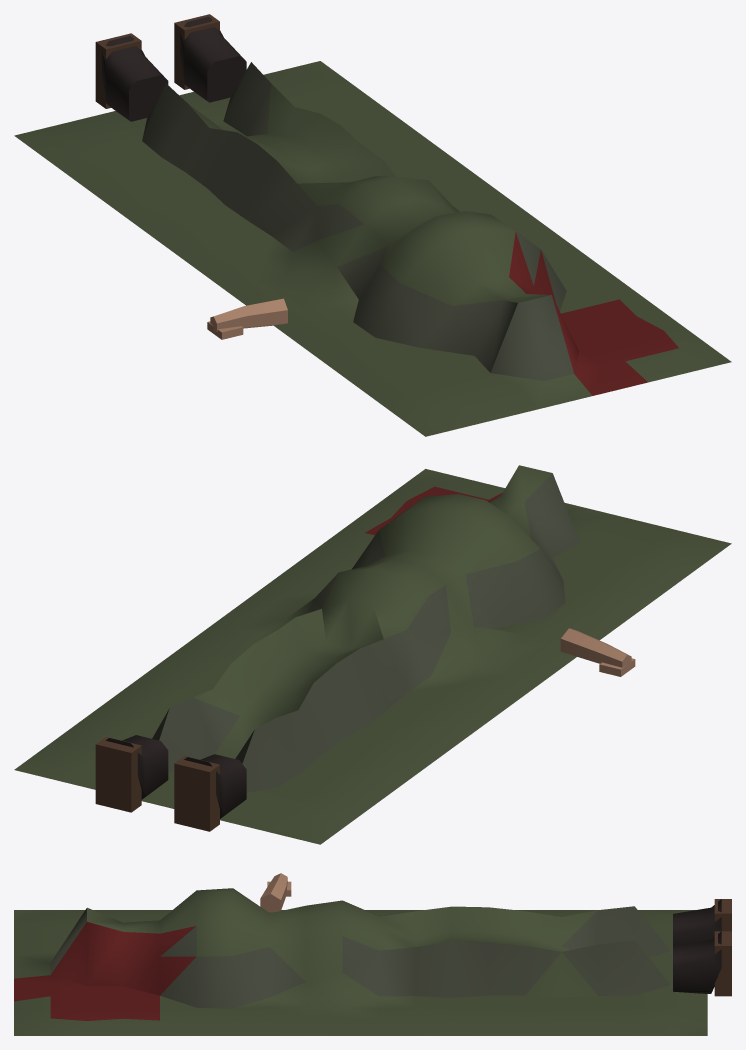
Rendered from corpse_covered.glb.
The picture shows the model from 3 angles, top to bottom: view 1: azimuth 30°, elevation 25°; view 2: azimuth 150°, elevation 25°; view 3: azimuth 270°, elevation 25°; orthographic projection. The views are drawn at different scales.
Parts seen in each view (by area): view 1: Corpse; view 2: Corpse; view 3: Corpse.
Part boxes in pixels (<box>): Corpse: <box>14,14,731,436</box>; Corpse: <box>14,465,731,844</box>; Corpse: <box>14,873,731,1035</box>.
Size of the model in its own units: 1.01 by 0.2495 by 2.07.
